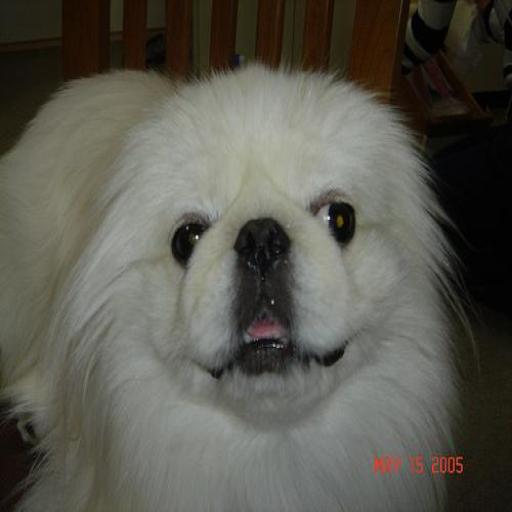dog_face: (114, 86, 428, 410)
